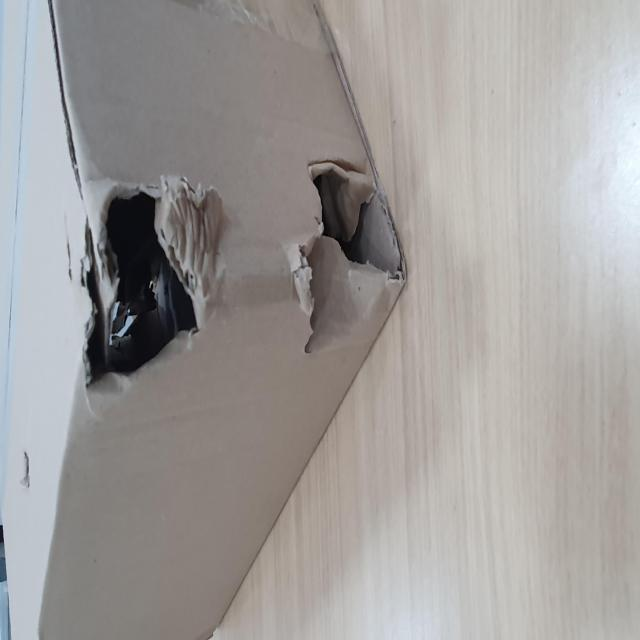damaged: (130, 136, 268, 375), (162, 523, 271, 640)
